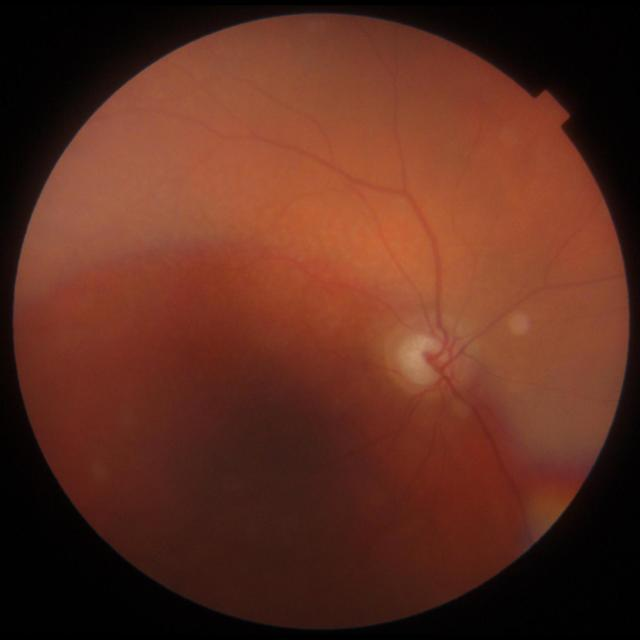OC: (396, 333, 449, 388)
OD: (386, 313, 473, 396)
